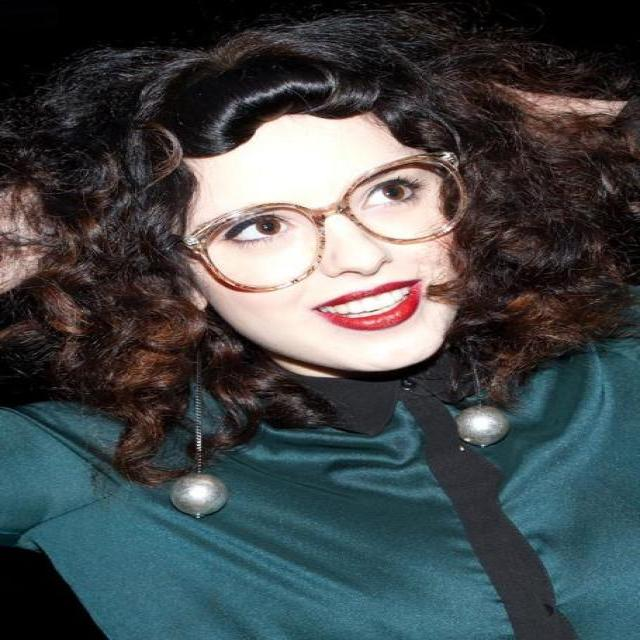glasses: (176, 151, 468, 291)
